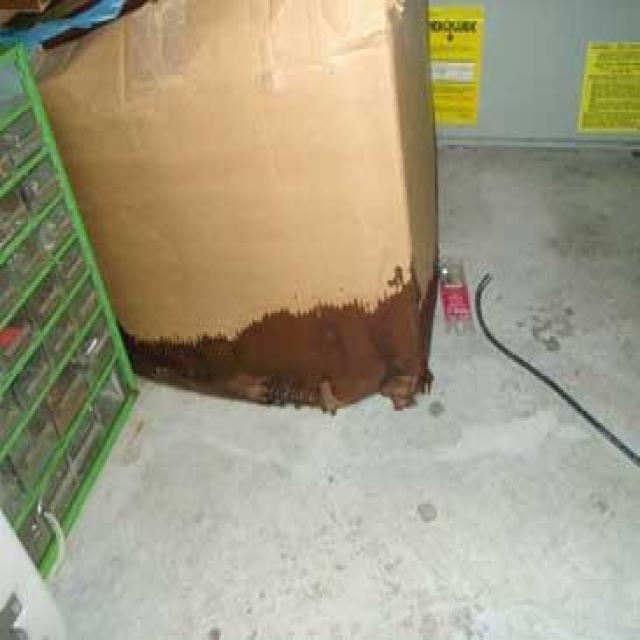wet: (118, 262, 419, 416)
